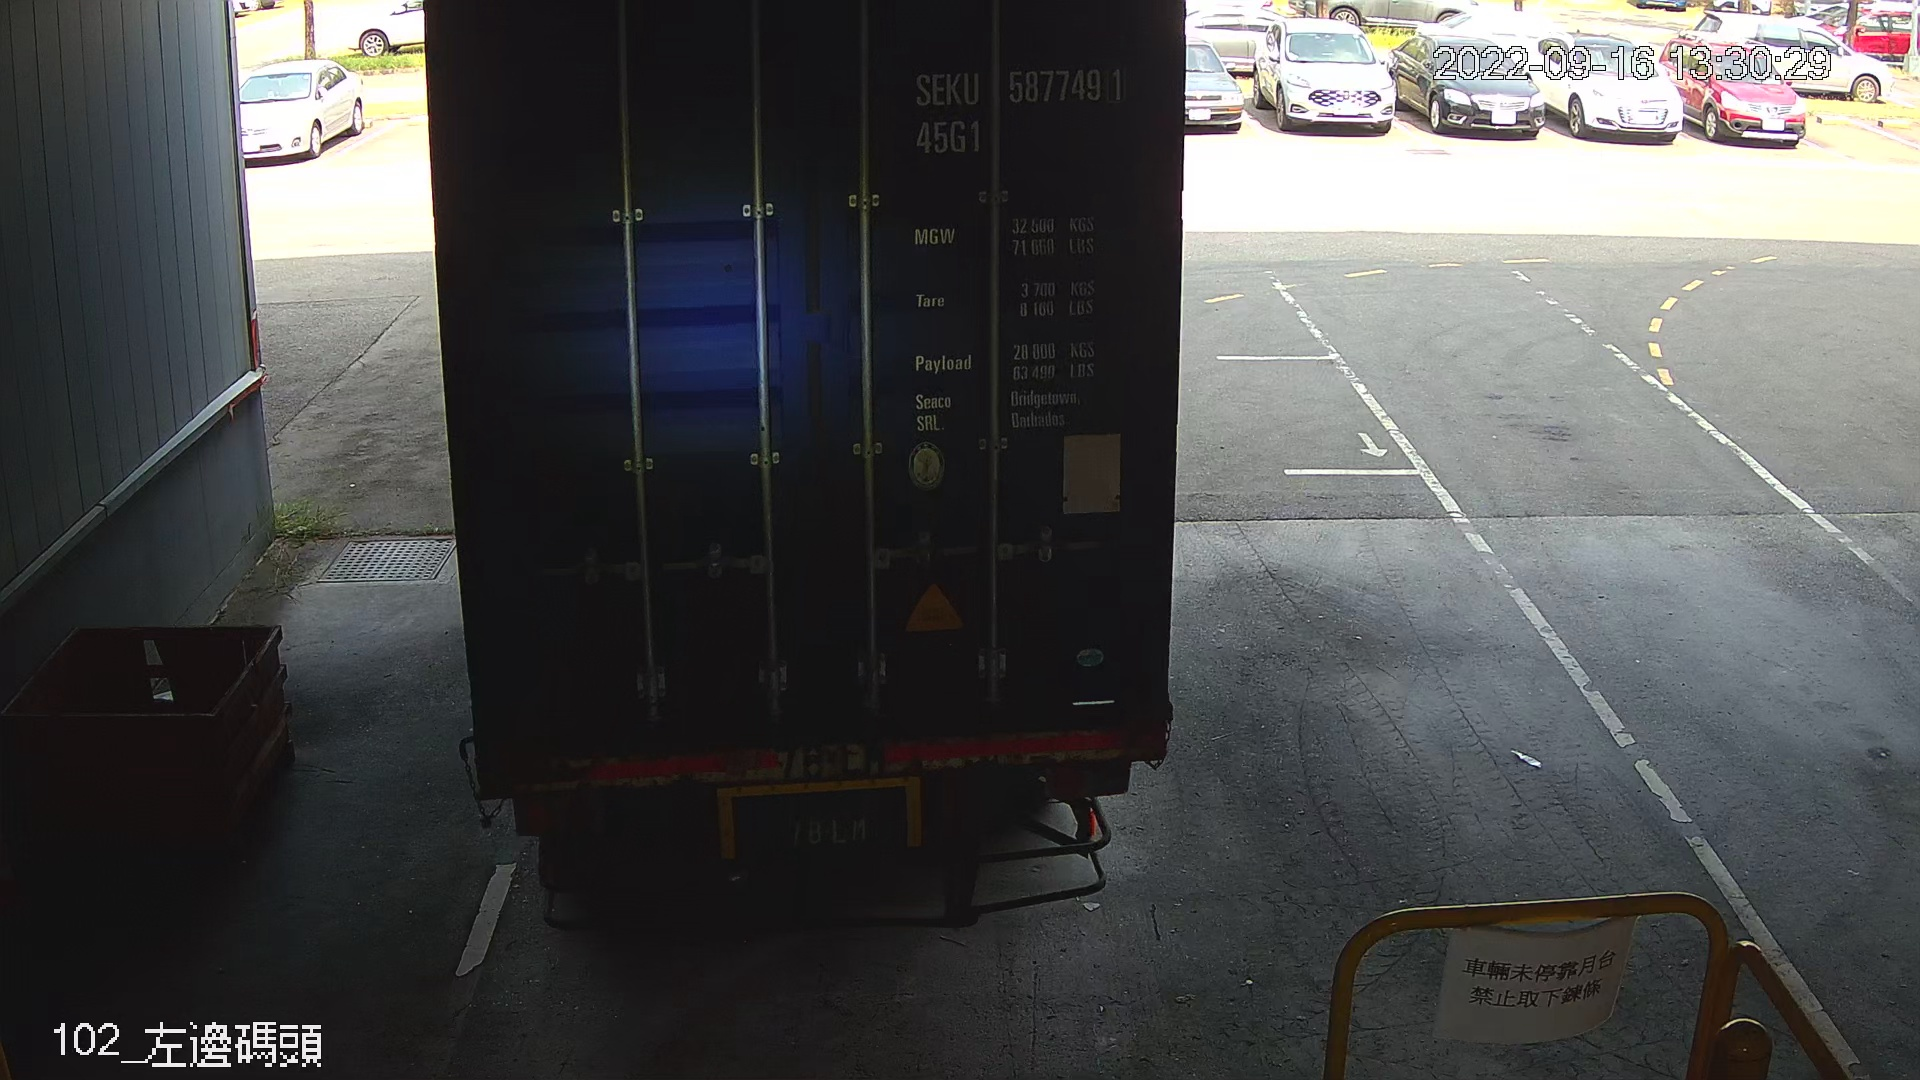container: (895, 57, 1135, 166)
